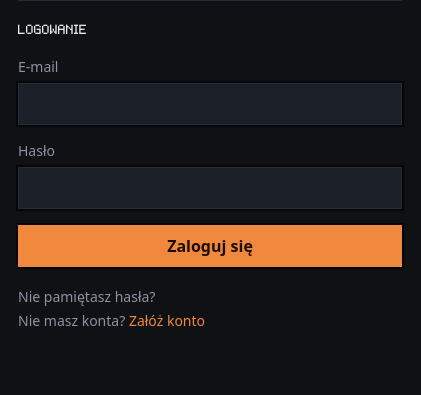
Test: LoginPage › sprawdza pola przed wyslaniem
Click the button "Zaloguj się". click: coordinates (210, 246)
box: [18, 225, 402, 267]
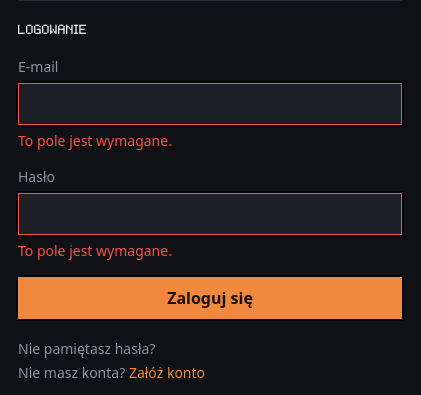
Expected: the text "To pole jest wymagane." is shown 2 times, [18, 131, 172, 150]; [18, 241, 172, 260]
